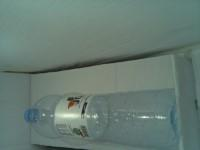BIODEGRADABLE: (6, 14, 89, 138)
